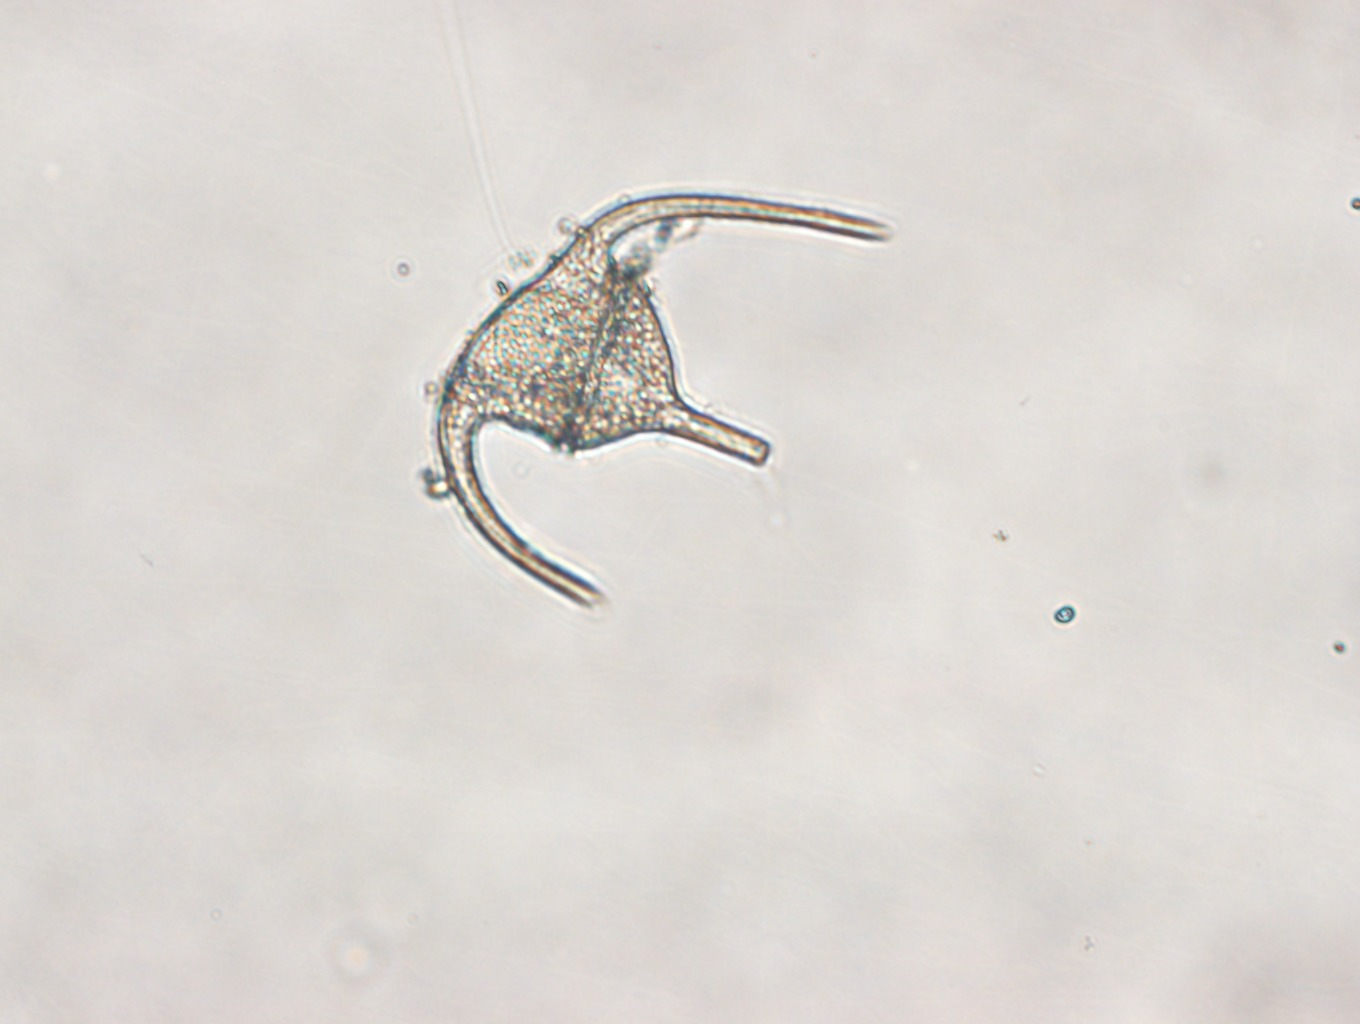ceratium tripos: (434, 190, 893, 613)
